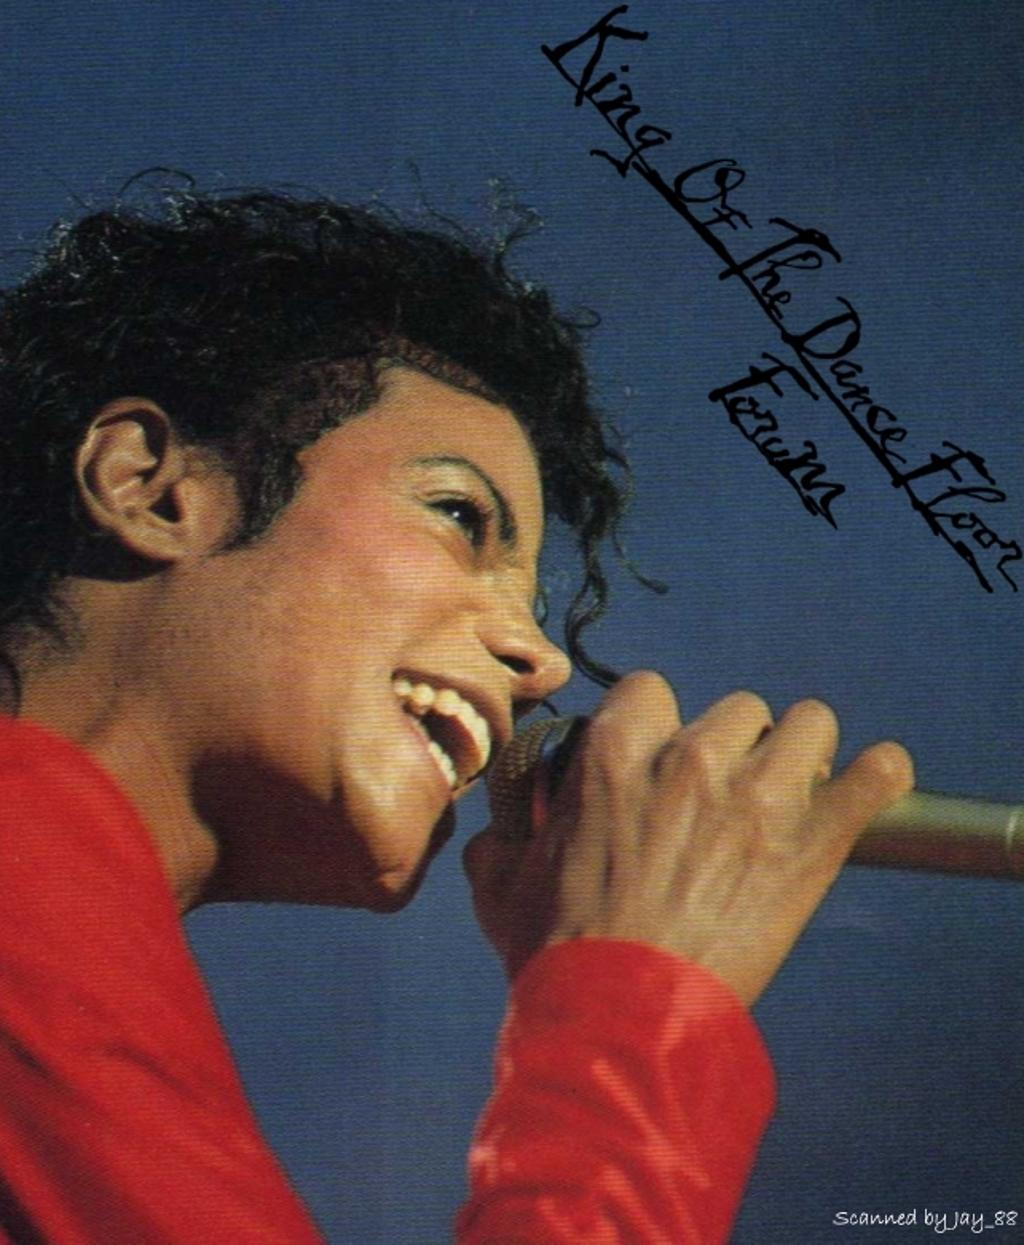face: (193, 307, 572, 910)
